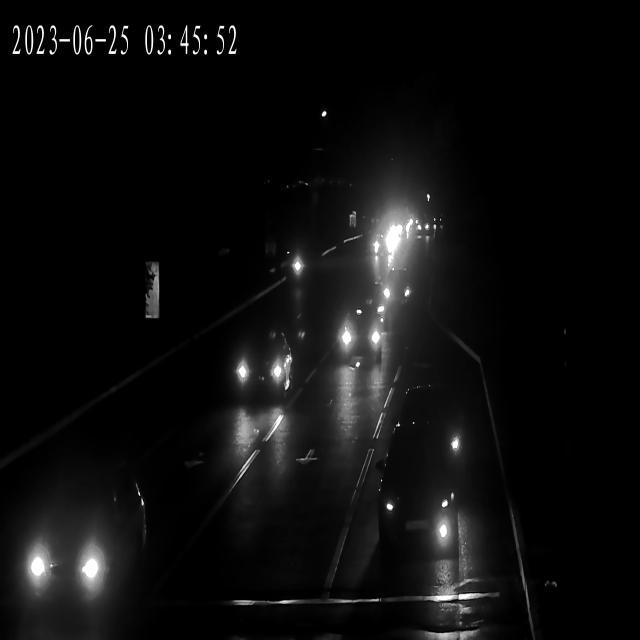Car: (0, 468, 144, 620), (376, 459, 461, 558), (394, 378, 469, 463), (229, 325, 297, 401), (333, 311, 386, 366), (286, 240, 326, 296), (365, 232, 398, 262), (372, 211, 404, 240), (402, 215, 431, 245)
